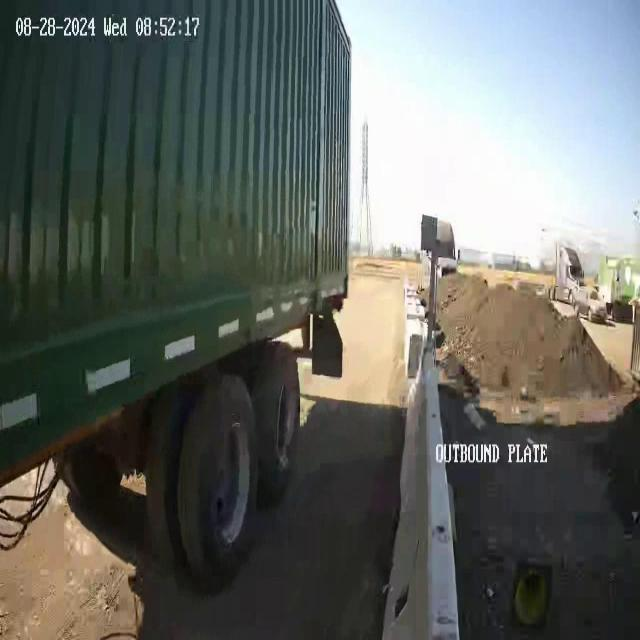TRUCK_OUT: (1, 1, 353, 584)
